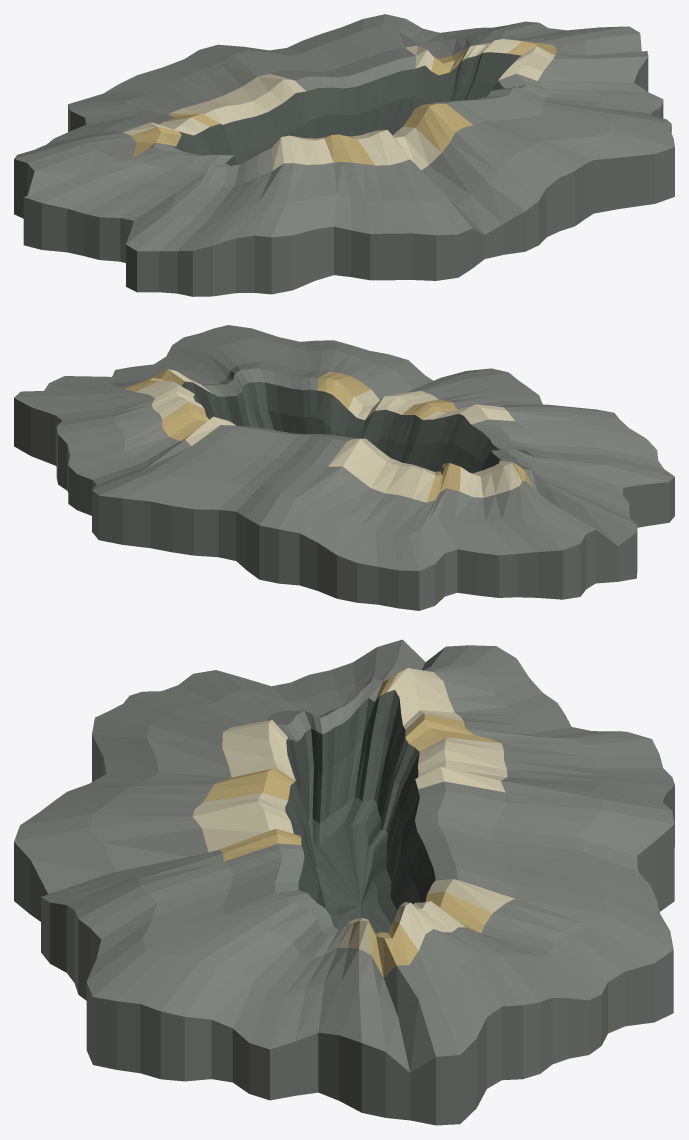
The picture shows the model from 3 angles, top to bottom: view 1: azimuth 30°, elevation 25°; view 2: azimuth 150°, elevation 25°; view 3: azimuth 270°, elevation 25°; orthographic projection. The views are drawn at different scales.
Parts seen in each view (by area): view 1: integrated_fractured_vent_with_discontinuous_relief_crust_an; view 2: integrated_fractured_vent_with_discontinuous_relief_crust_an; view 3: integrated_fractured_vent_with_discontinuous_relief_crust_an.
Boxes of the visible parts, x1=… form: integrated_fractured_vent_with_discontinuous_relief_crust_an: x1=14, y1=14, x2=674, y2=296; integrated_fractured_vent_with_discontinuous_relief_crust_an: x1=14, y1=325, x2=674, y2=610; integrated_fractured_vent_with_discontinuous_relief_crust_an: x1=14, y1=639, x2=674, y2=1125.
Bounding box in the file's own units: 4.3 × 0.6061 × 2.86.
